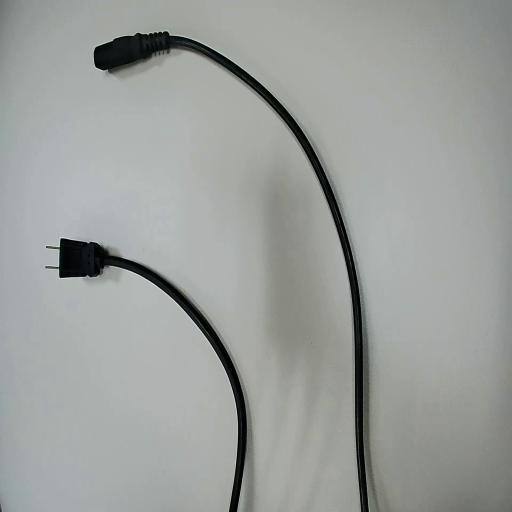wire: (95, 32, 367, 511), (59, 239, 246, 511)
